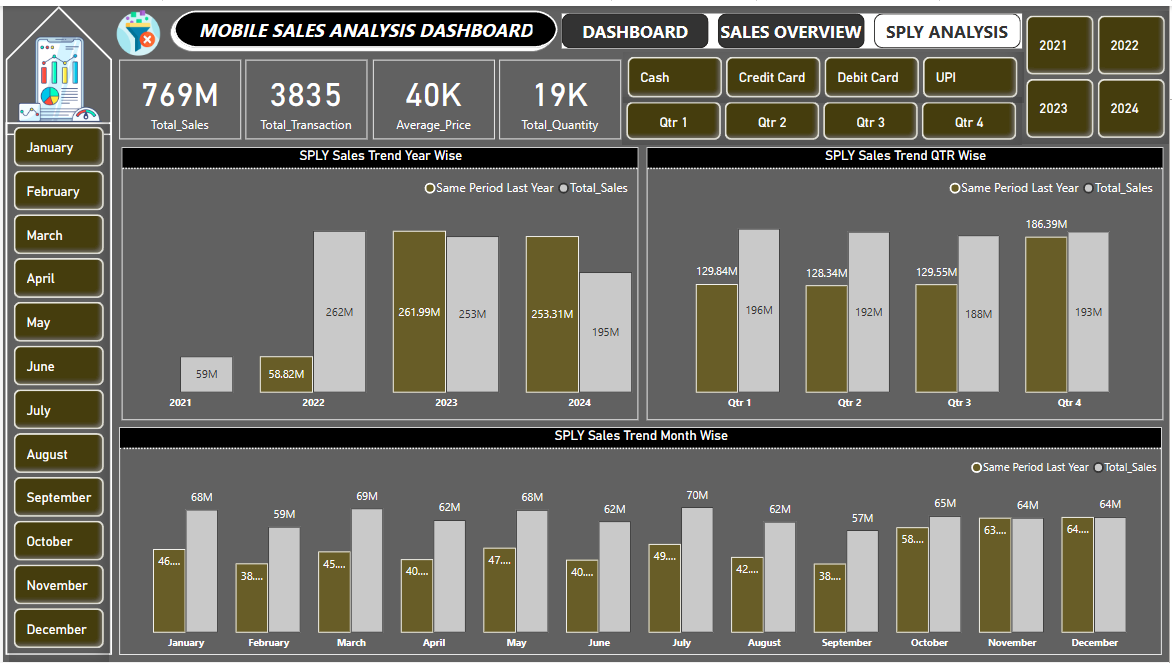

The page's visual inventory and layout, read from the dashboard file:
{"tool":"powerbi","page":{"name":"SPLY ANALYSIS","canvas":[1280,720],"ordinal":2},"visuals":[{"type":"shape","box":[181.7,0,430.9,50.9],"z":0},{"type":"card","fields":{"Values":["Mobile_Sales_Data.Total_Sales"]},"box":[128,59.2,133.6,86.9],"z":1000,"group":"g1"},{"type":"shape","box":[2.8,128,116.9,584.3],"z":1000},{"type":"shape","box":[2.8,0,116.9,141.9],"z":2000},{"type":"card","fields":{"Values":["Mobile_Sales_Data.Total_Transaction"]},"box":[267.1,59.2,133.6,86.9],"z":2000,"group":"g1"},{"type":"image","box":[7,27.8,109.9,105.7],"z":3000},{"type":"card","fields":{"Values":["Mobile_Sales_Data.Average_Sales"]},"box":[406.3,59.2,133.6,86.9],"z":3000,"group":"g1"},{"type":"group","id":"g1","title":"Group 1","box":[128,59.2,550.7,86],"z":4000},{"type":"card","fields":{"Values":["Mobile_Sales_Data.Total_Quantity"]},"box":[545.4,59.2,133.6,86.9],"z":4000,"group":"g1"},{"type":"advancedSlicerVisual","fields":{"Values":["Custom_Calender.Date.Variation.Date Hierarchy.Month"]},"box":[6.9,127.6,109.8,592.8],"z":5000},{"type":"advancedSlicerVisual","fields":{"Values":["Custom_Calender.Date.Variation.Date Hierarchy.Quarter"]},"box":[678.7,100.5,439.1,52.3],"z":6000},{"type":"advancedSlicerVisual","fields":{"Values":["Mobile_Sales_Data.Payment Method"]},"box":[680.1,50.9,439.1,55.1],"z":7000},{"type":"advancedSlicerVisual","fields":{"Values":["Custom_Calender.Date.Variation.Date Hierarchy.Year"]},"box":[1116.9,5.5,163.1,145.3],"z":8000},{"type":"image","box":[117,0,64.7,59.2],"z":9000},{"type":"clusteredColumnChart","title":" SPLY Sales Trend Year Wise","fields":{"Category":["Custom_Calender.Date.Variation.Date Hierarchy.Year"],"Y":["Mobile_Sales_Data.Same Period Last Year","Mobile_Sales_Data.Total_Sales"]},"box":[130.2,154.9,566.1,298.8],"z":10000},{"type":"clusteredColumnChart","title":" SPLY Sales Trend Month Wise","fields":{"Category":["Custom_Calender.Date.Variation.Date Hierarchy.Month"],"Y":["Mobile_Sales_Data.Same Period Last Year","Mobile_Sales_Data.Total_Sales"]},"box":[127.5,461.9,1143.2,249.5],"z":11000},{"type":"clusteredColumnChart","title":" SPLY Sales Trend QTR Wise","fields":{"Category":["Custom_Calender.Date.Variation.Date Hierarchy.Quarter"],"Y":["Mobile_Sales_Data.Same Period Last Year","Mobile_Sales_Data.Total_Sales"]},"box":[705.9,154.9,566.1,298.8],"z":12000},{"type":"pageNavigator","box":[612.7,8.2,504.4,38.4],"z":13000}]}

Visuals, with their boxes in screenshot pixels (x1, y1, x2, y2), scaled from the page's 1280x720 canvas onto the 1172x663 screenshot:
shape: region(166, 0, 561, 47)
card - Mobile_Sales_Data.Total_Sales: region(117, 55, 240, 135)
shape: region(3, 118, 110, 656)
shape: region(3, 0, 110, 131)
card - Mobile_Sales_Data.Total_Transaction: region(245, 55, 367, 135)
image: region(6, 26, 107, 123)
card - Mobile_Sales_Data.Average_Sales: region(372, 55, 494, 135)
"Group 1" group: region(117, 55, 621, 134)
card - Mobile_Sales_Data.Total_Quantity: region(499, 55, 622, 135)
advancedSlicerVisual - Custom_Calender.Date.Variation.Date Hierarchy.Month: region(6, 117, 107, 662)
advancedSlicerVisual - Custom_Calender.Date.Variation.Date Hierarchy.Quarter: region(621, 93, 1023, 141)
advancedSlicerVisual - Mobile_Sales_Data.Payment Method: region(623, 47, 1025, 98)
advancedSlicerVisual - Custom_Calender.Date.Variation.Date Hierarchy.Year: region(1023, 5, 1171, 139)
image: region(107, 0, 166, 55)
" SPLY Sales Trend Year Wise" clusteredColumnChart: region(119, 143, 638, 418)
" SPLY Sales Trend Month Wise" clusteredColumnChart: region(117, 425, 1163, 655)
" SPLY Sales Trend QTR Wise" clusteredColumnChart: region(646, 143, 1165, 418)
pageNavigator: region(561, 8, 1023, 43)
